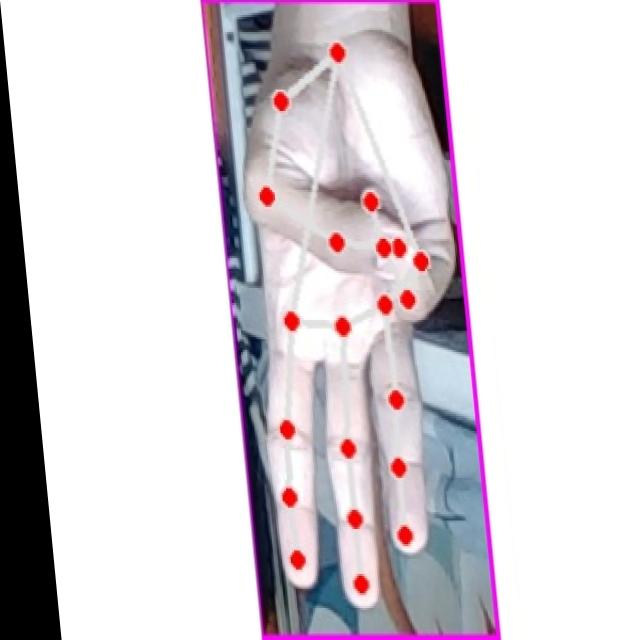W: (225, 33, 473, 605)
